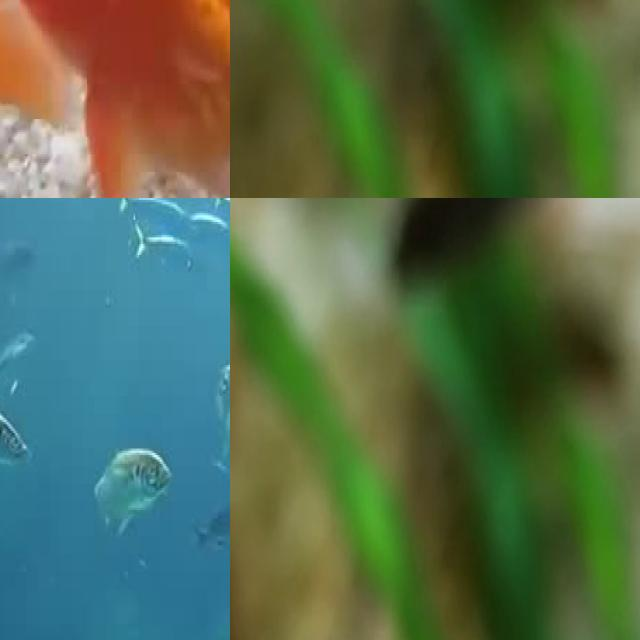fish: (0, 0, 230, 198)
